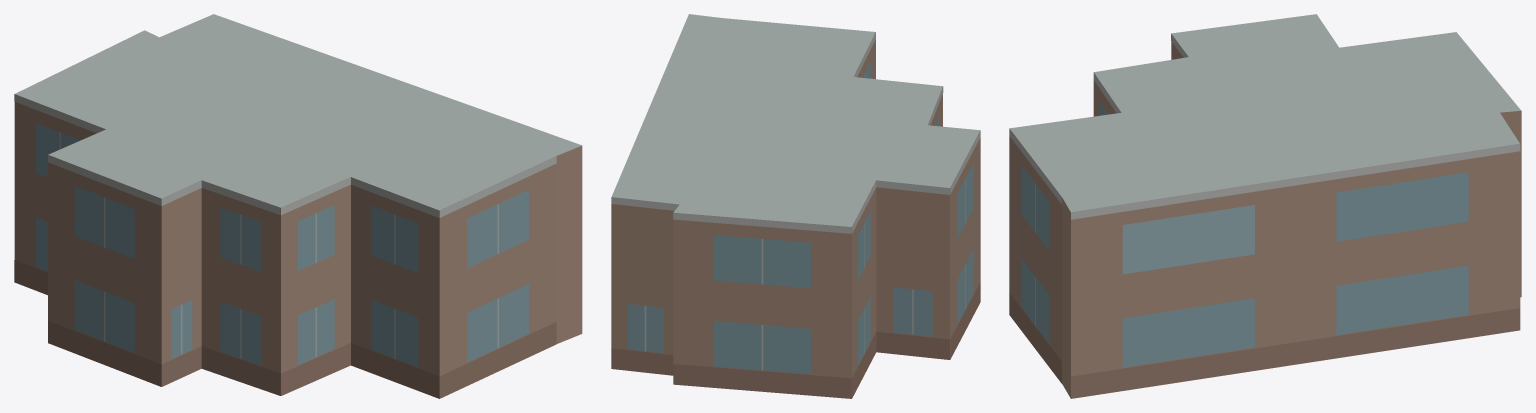
File: survey-upis-33022828.glb
The picture shows the model from 3 angles, left to right: view 1: azimuth 30°, elevation 25°; view 2: azimuth 150°, elevation 25°; view 3: azimuth 270°, elevation 25°; orthographic projection. The views are drawn at different scales.
Parts seen in each view (by area): view 1: survey-upis-33022828.tmp; view 2: survey-upis-33022828.tmp; view 3: survey-upis-33022828.tmp.
Boxes of the visible parts, <box> form: survey-upis-33022828.tmp: <box>14,14,582,398</box>; survey-upis-33022828.tmp: <box>611,14,980,398</box>; survey-upis-33022828.tmp: <box>1009,14,1521,398</box>.
Size of the model in its own units: 13.92 by 6.1 by 15.19.
